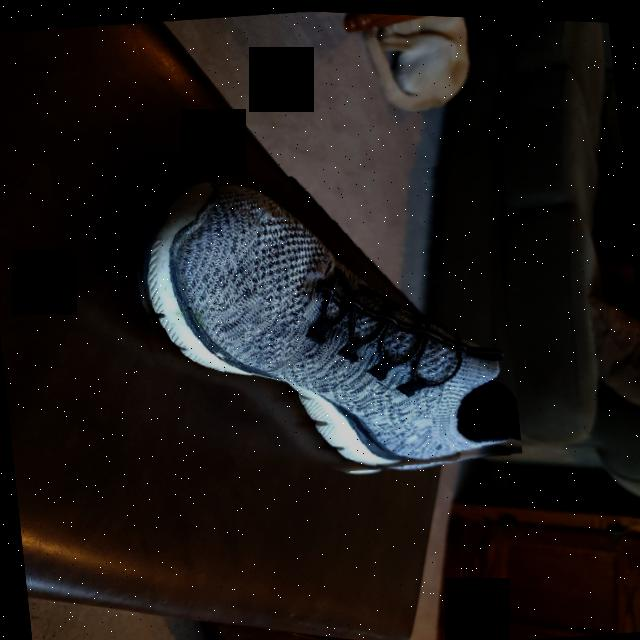shoe: (124, 148, 524, 500)
